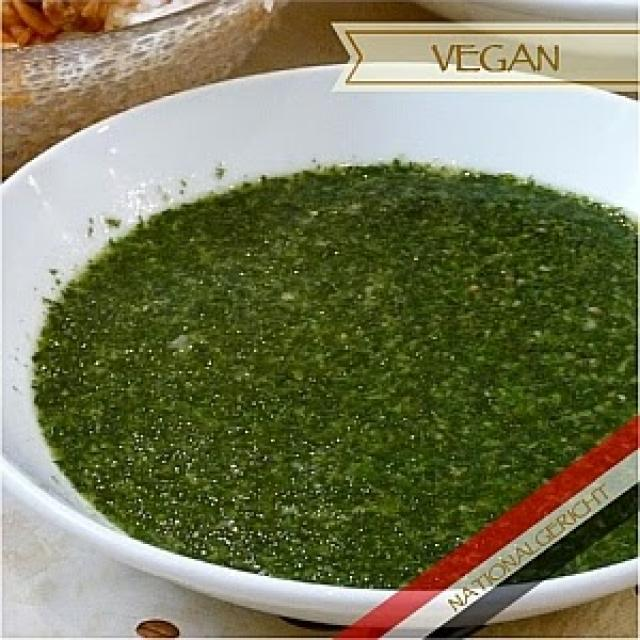molokhia: (32, 153, 640, 599)
